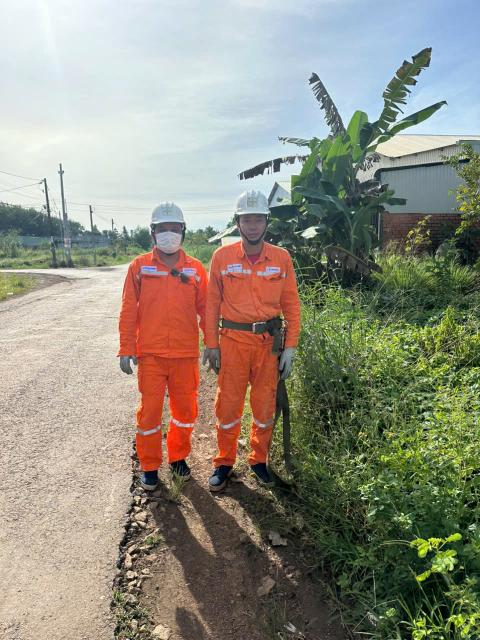gloves: (116, 349, 141, 379), (279, 343, 300, 378), (199, 347, 229, 371)
harness: (212, 309, 294, 343)
helmet: (148, 198, 191, 229), (232, 188, 273, 216)
shoes: (206, 453, 239, 494), (249, 456, 284, 490), (136, 450, 161, 495), (166, 452, 192, 482)
